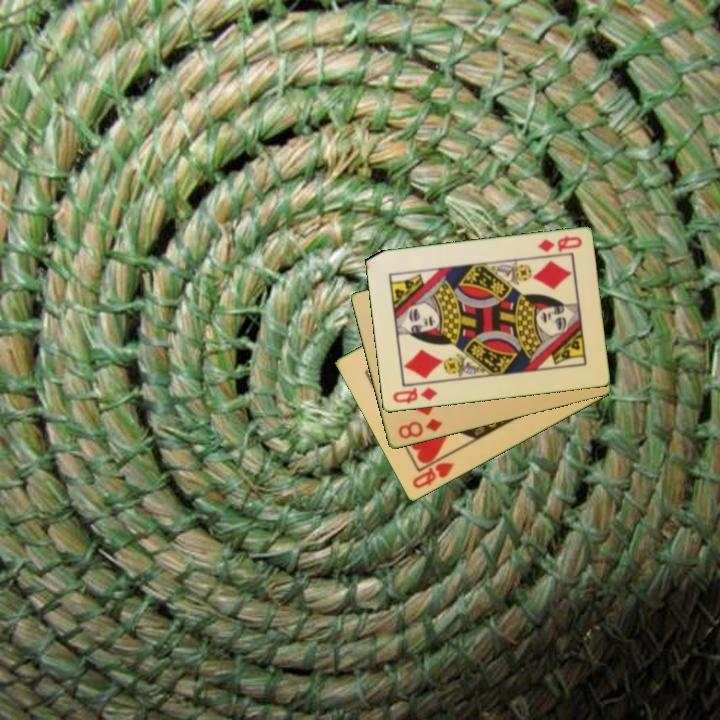8d: (395, 415, 445, 442)
Qd: (389, 384, 440, 407), (534, 232, 585, 255)
Qh: (409, 459, 457, 492)
